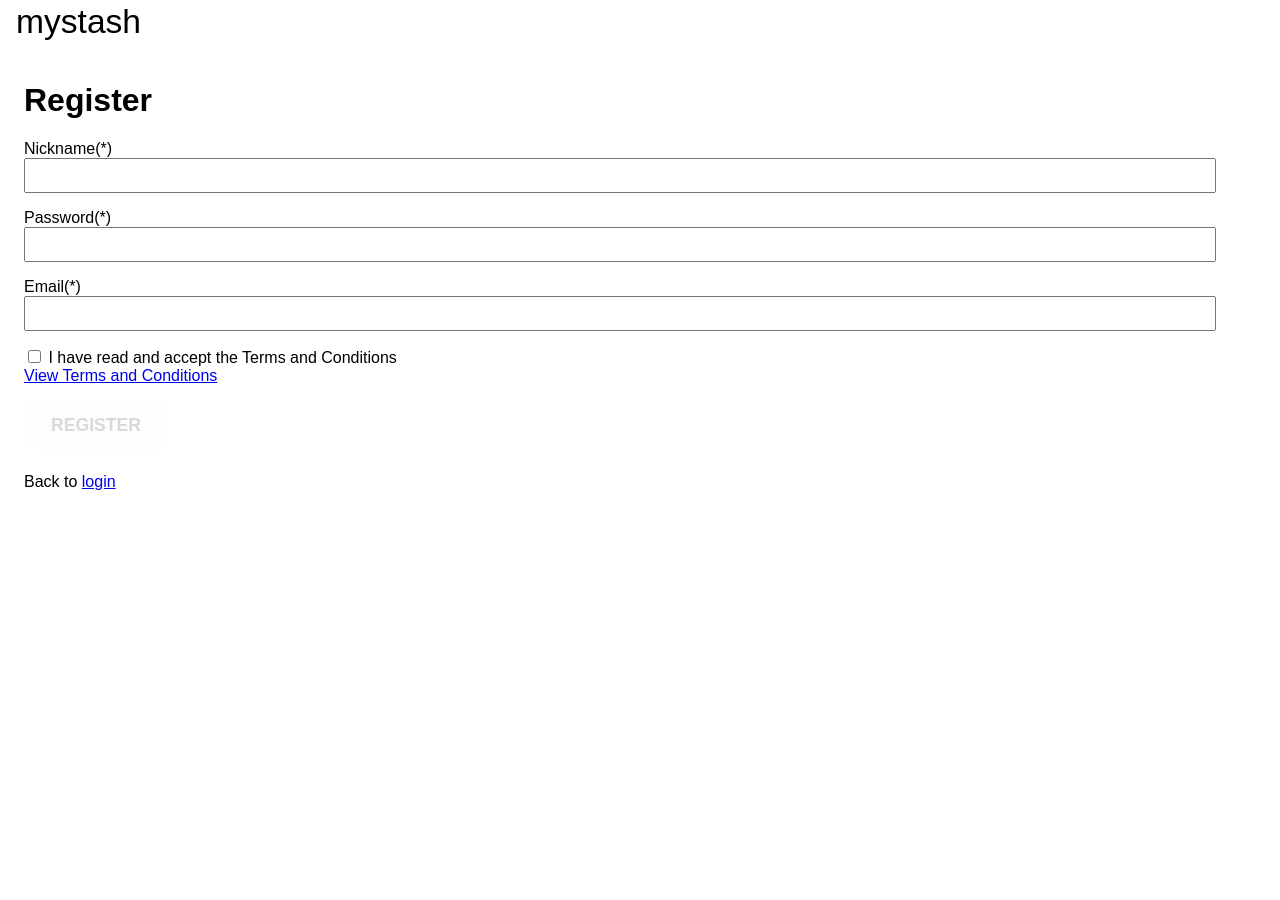
it: Register › opens the terms and conditions in a modal via the link
Click the link "View Terms and Conditions": click(121, 375) [24,367,217,384]
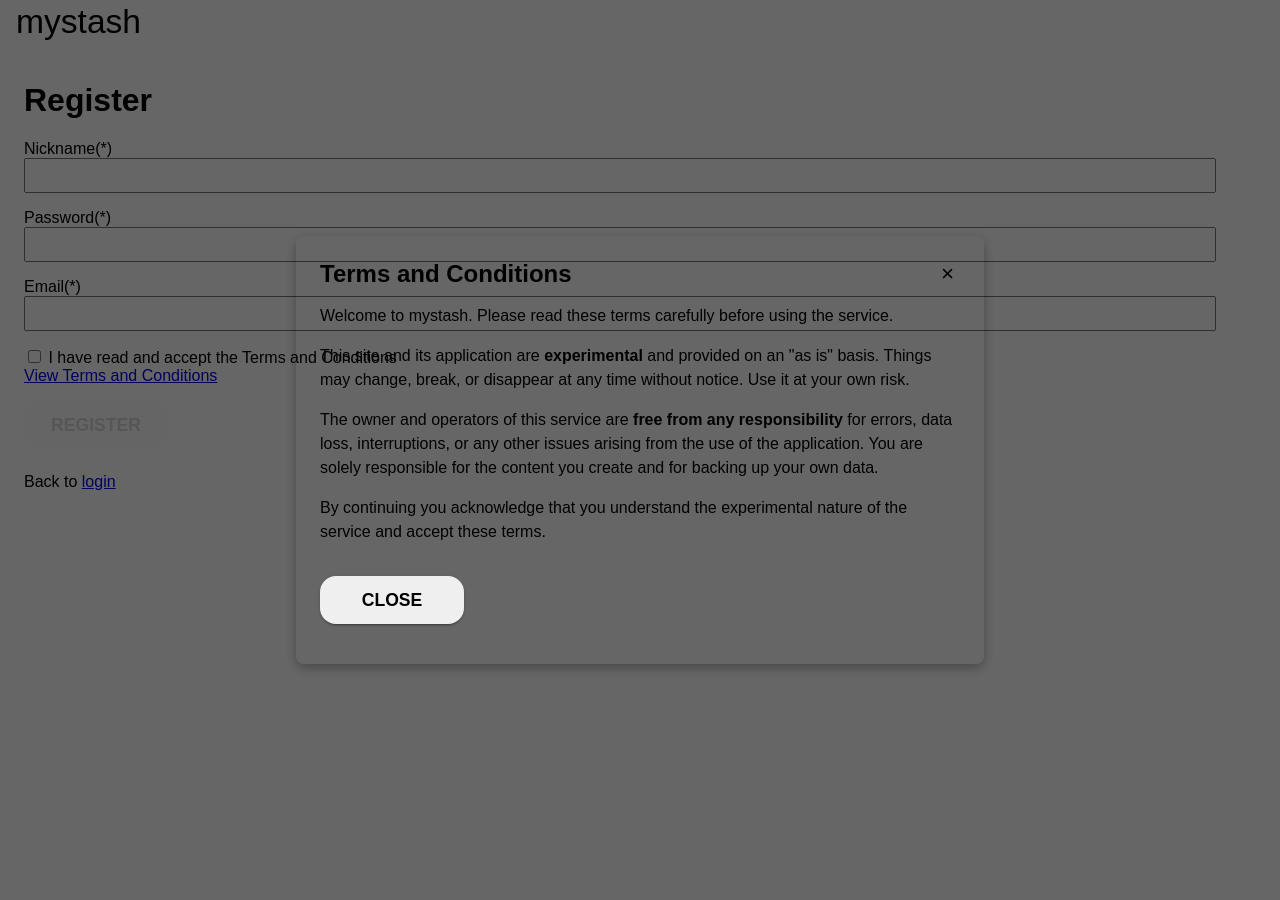
Check: the dialog is shown, box [296,236,984,664]
Check: the text "free from any responsibility" is shown, box [633,411,843,428]
Click the button "Close": click(392, 600) [320,576,464,624]
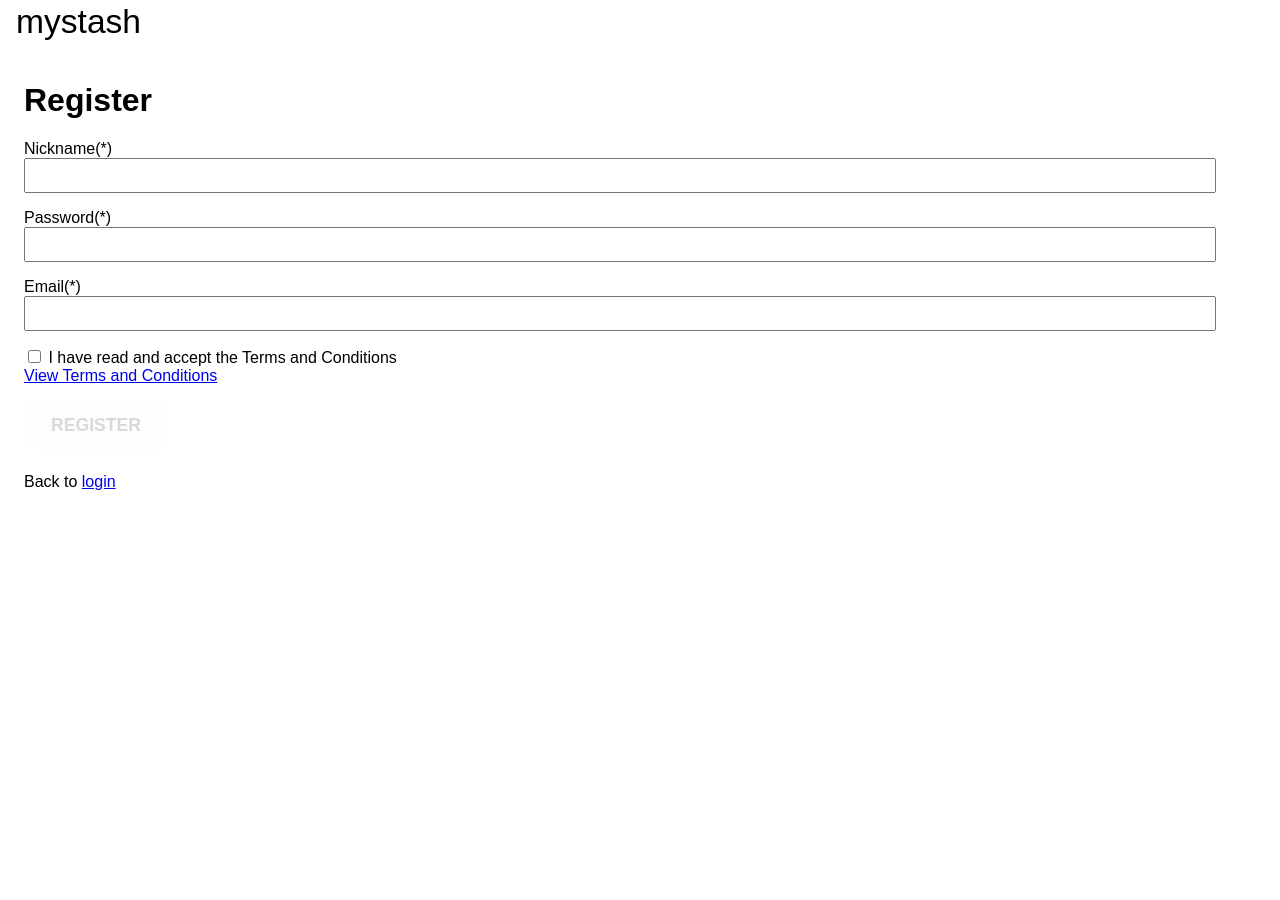
Check: the dialog is gone
